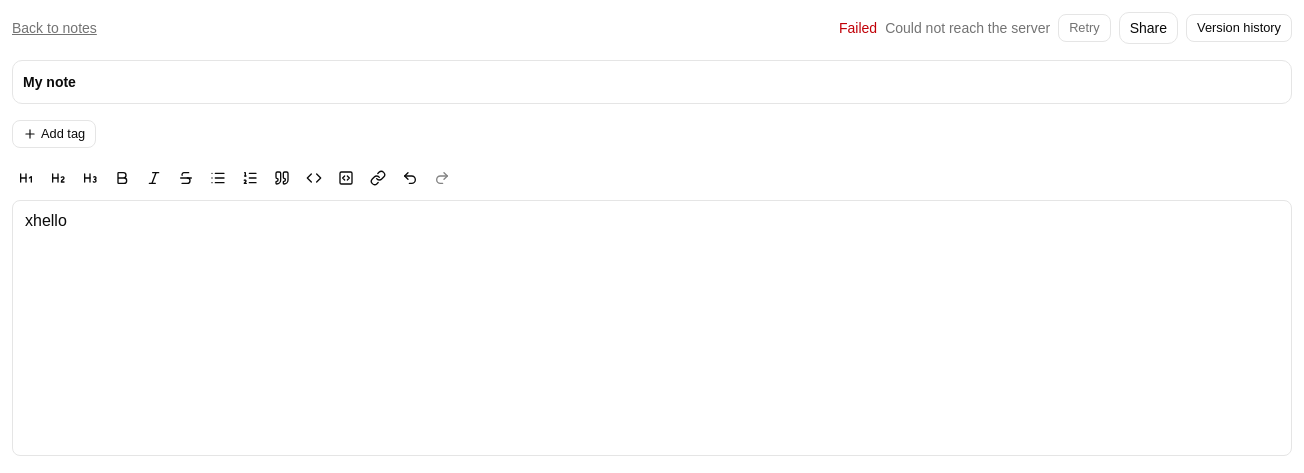
Scenario: note editor autosave › S-AB1012-04: a failed autosave keeps the edits, retries and then waits for Retry
The image size is (1304, 473).
Expected: the field showing "My note" is shown, [12,60,1292,104]
Expected: the text "Could not reach the server" is shown, [885,18,1050,38]
What coordinates should you click on to do the following:
click the button "Retry"
I would click on:
 (1084, 28)
Its box is [1058,14,1111,42].
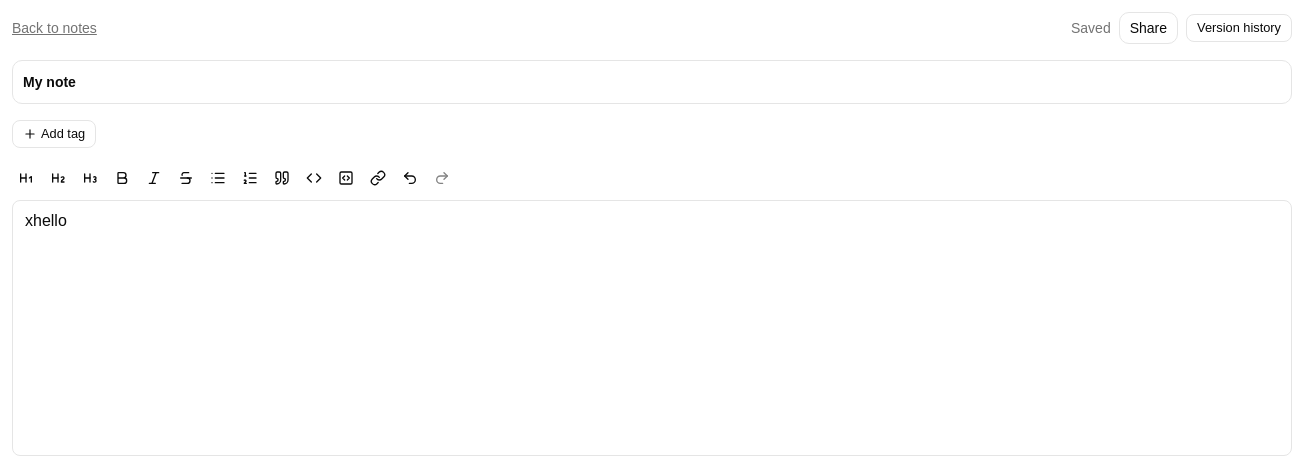
Expected: the text "Saved" is shown, [1071,18,1111,38]
